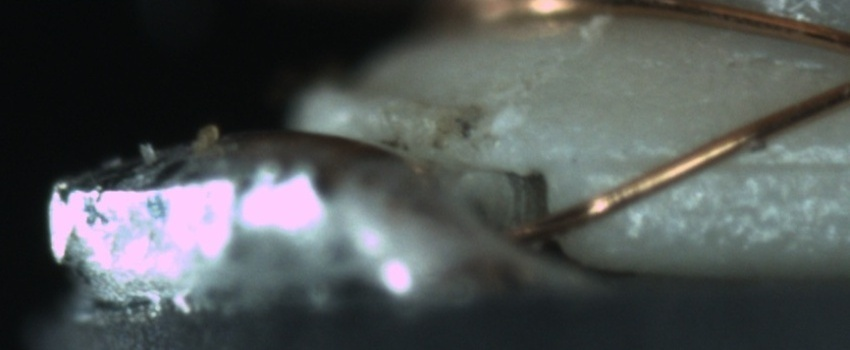DL: (605, 130, 845, 197)
